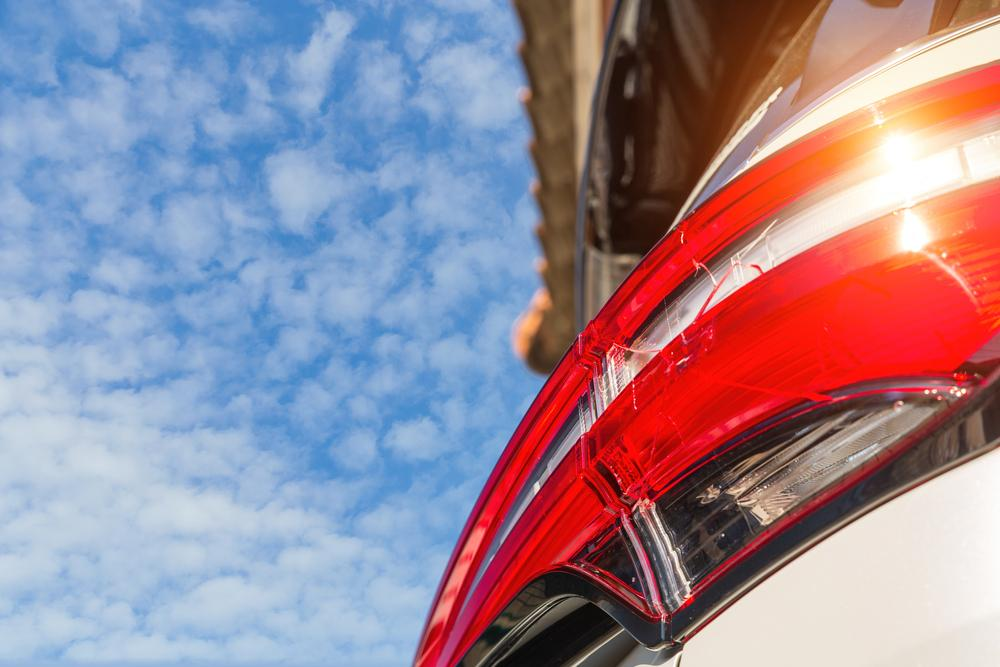lamp broken: (572, 58, 1000, 622)
